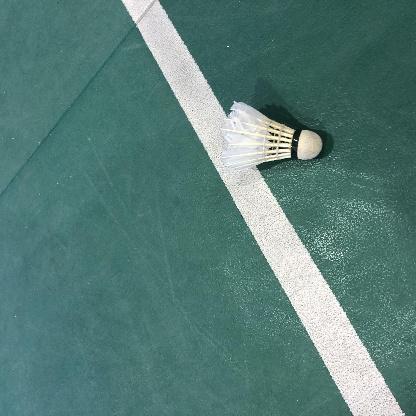ball_single: (220, 102, 322, 171)
